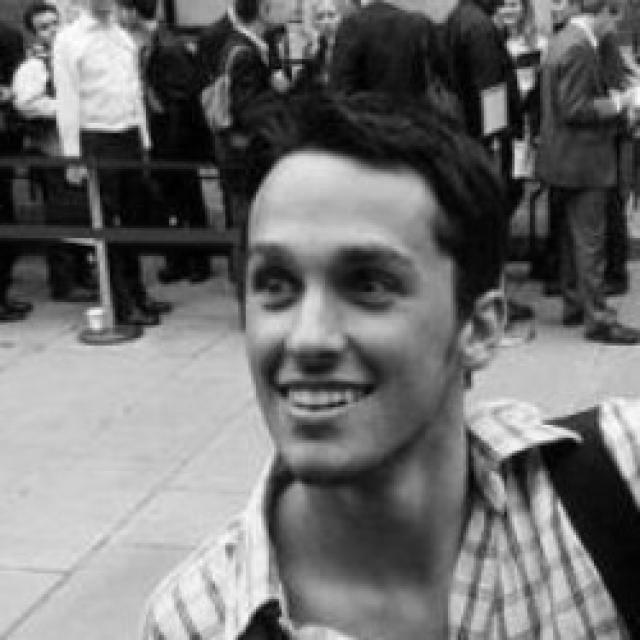real: (242, 155, 462, 478), (246, 251, 430, 310)
